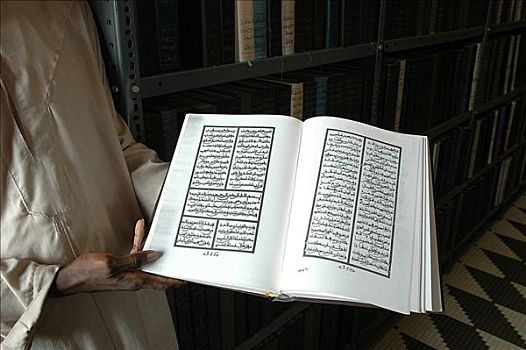book: (134, 107, 449, 317)
